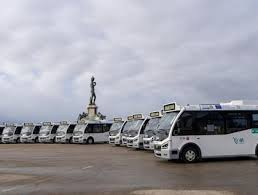bus: (153, 102, 258, 165), (71, 115, 114, 147), (142, 110, 163, 152), (127, 114, 149, 150), (37, 122, 57, 145), (55, 122, 75, 144), (20, 124, 41, 144), (1, 125, 21, 144), (108, 119, 122, 146), (120, 118, 130, 146)
